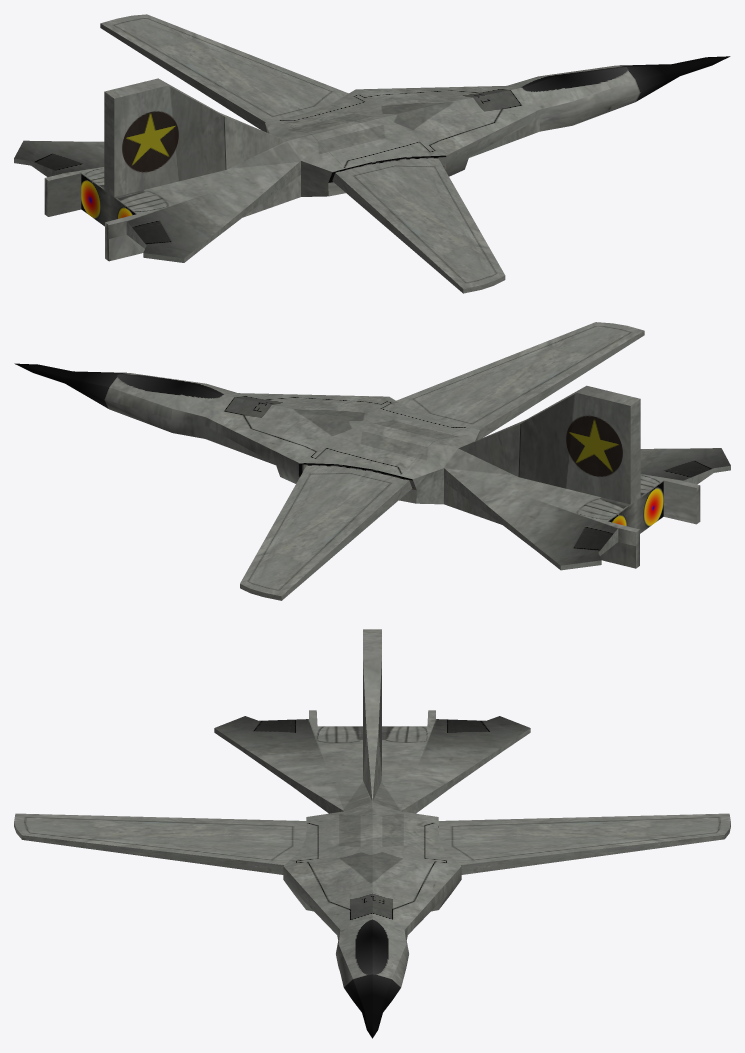
File: fighterPlane1.fbx
3 views of the same model, one above another, from view 1: azimuth 30°, elevation 25°; view 2: azimuth 150°, elevation 25°; view 3: azimuth 270°, elevation 25° (orthographic).
Parts seen in each view (by area): view 1: polySurface2, Wing1, Wing2; view 2: polySurface2, Wing2, Wing1; view 3: polySurface2, Wing1, Wing2.
Part boxes in pixels (x1=…): polySurface2: x1=14, y1=56, x2=730, y2=262; Wing1: x1=332, y1=158, x2=505, y2=293; Wing2: x1=100, y1=14, x2=348, y2=132; polySurface2: x1=14, y1=363, x2=730, y2=570; Wing2: x1=240, y1=465, x2=412, y2=600; Wing1: x1=396, y1=322, x2=644, y2=439; polySurface2: x1=214, y1=629, x2=530, y2=1038; Wing1: x1=14, y1=813, x2=306, y2=874; Wing2: x1=438, y1=813, x2=730, y2=874.
Size of the model in its own units: 25.6 by 5.07 by 24.69.
Materials: 2 (2 with a texture image).
